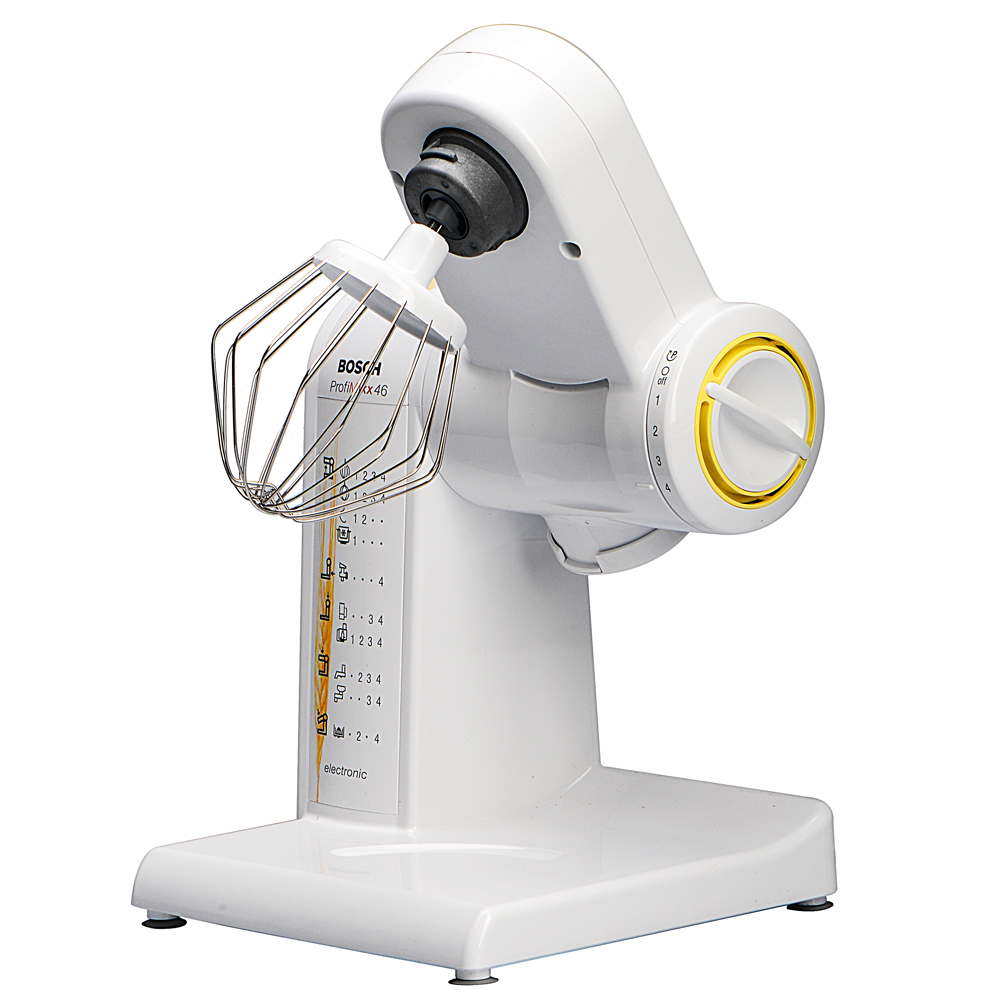Bosch: (332, 353, 389, 379)
